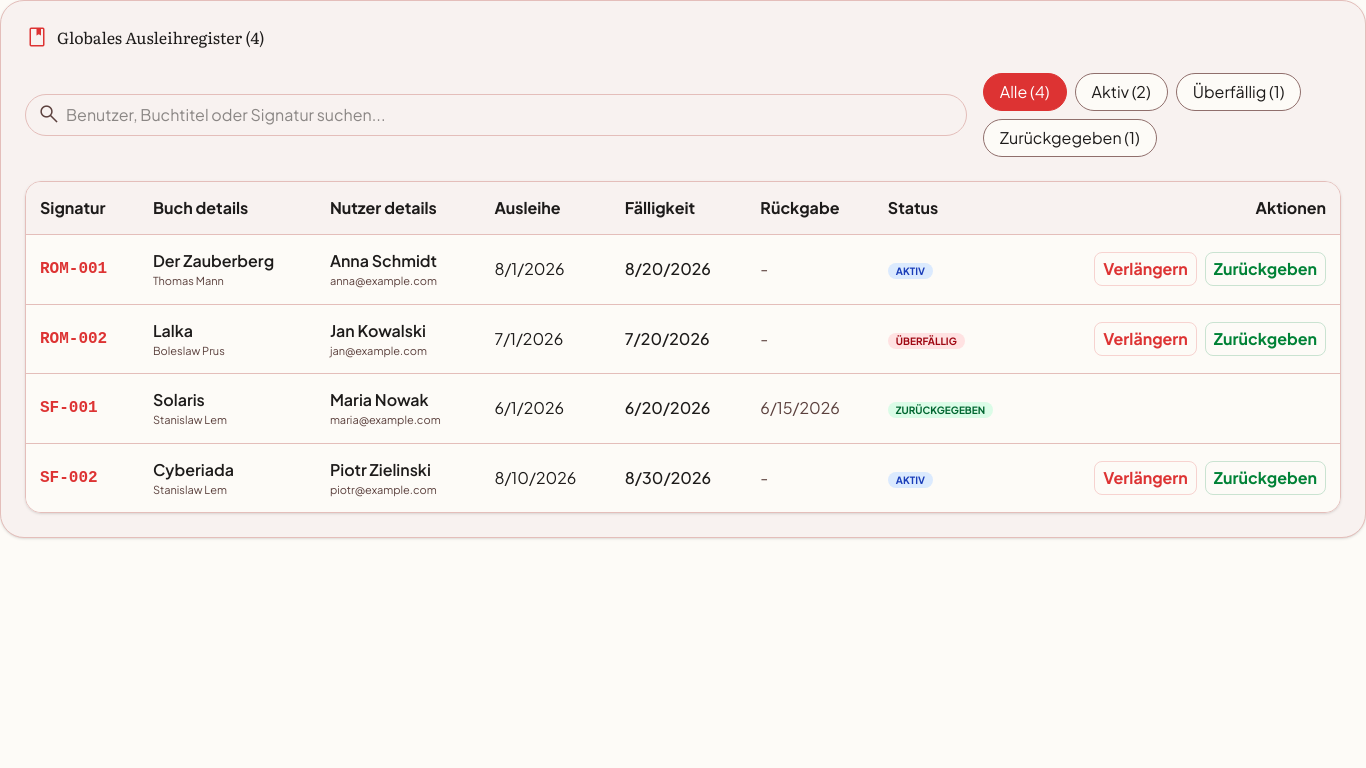
AdminLoans Component (PR #69 verification) › filters loan list by status when clicking status filter buttons
Expected: the text "Der Zauberberg" is shown, top-left (153, 250), bottom-right (274, 271)
Expected: the text "Lalka" is shown, top-left (153, 320), bottom-right (193, 340)
Note: Filter by overdue
Click the button "Überfällig (1)" at (1239, 92), box top-left (1176, 73), bottom-right (1302, 111)
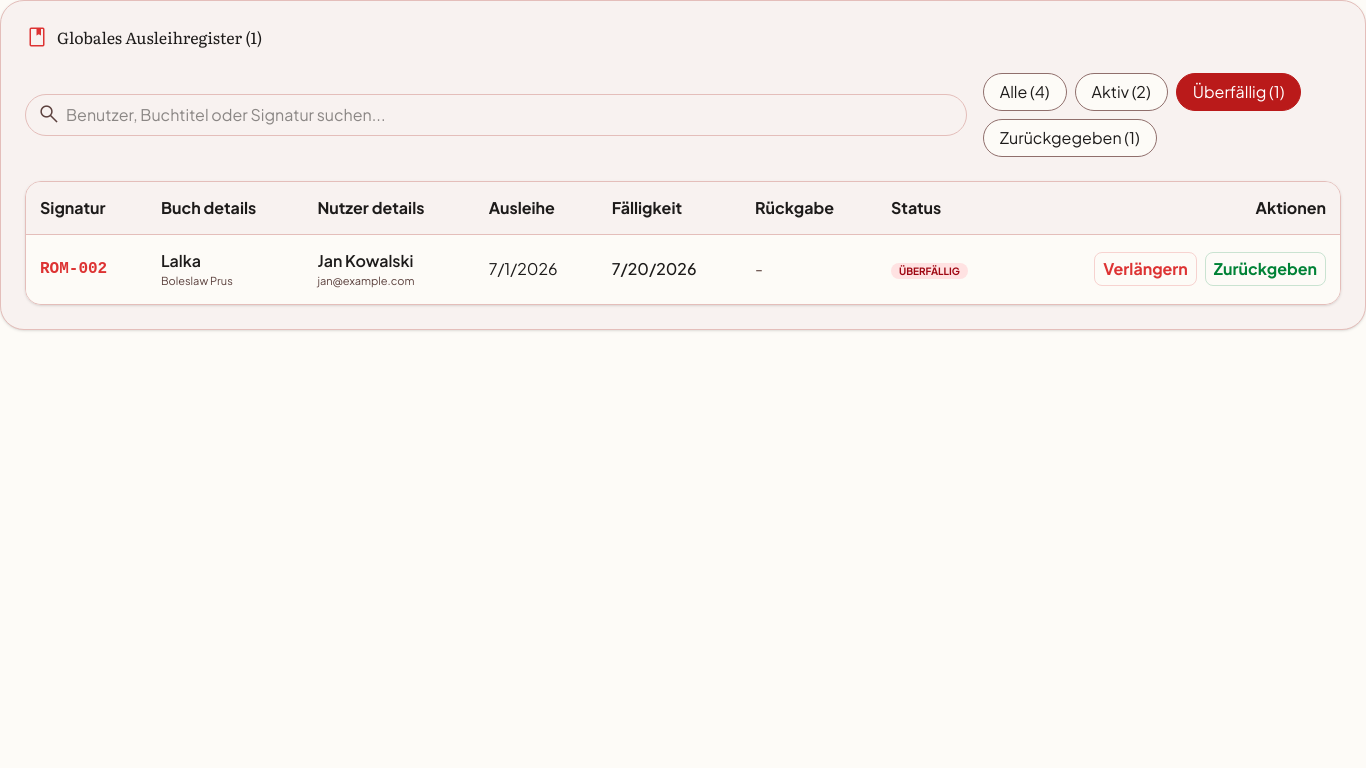
Expected: the text "Lalka" is shown, top-left (161, 250), bottom-right (201, 271)
Result: the text "Der Zauberberg" is gone
Result: the text "Solaris" is gone
Note: Filter by returned
Click the button "Zurückgegeben (1)" at (1070, 138), box top-left (983, 119), bottom-right (1157, 157)
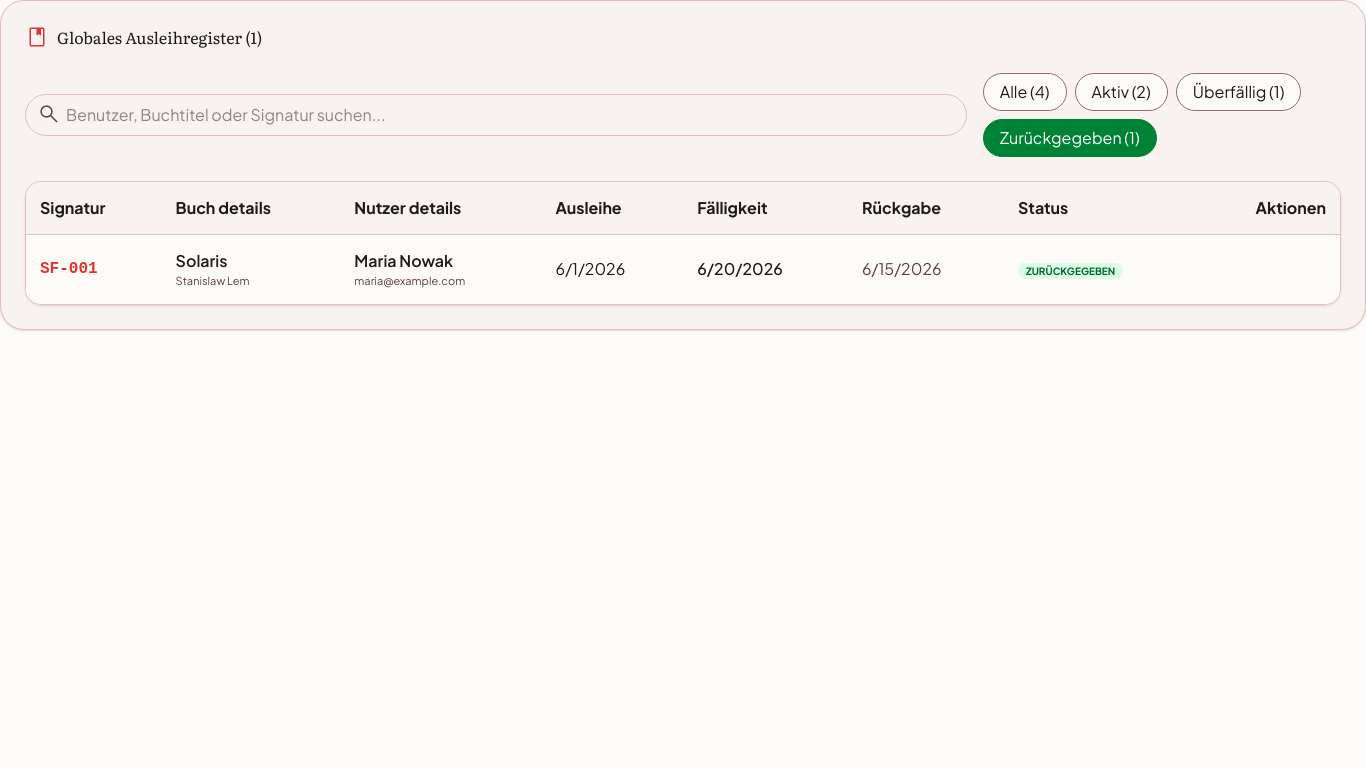
Expected: the text "Der Zauberberg" is not shown
Result: the text "Solaris" is shown at top-left (176, 250), bottom-right (228, 271)
Result: the text "Lalka" is gone
Note: Filter by active
Click the button "Aktiv (2)" at (1121, 92), box top-left (1075, 73), bottom-right (1168, 111)
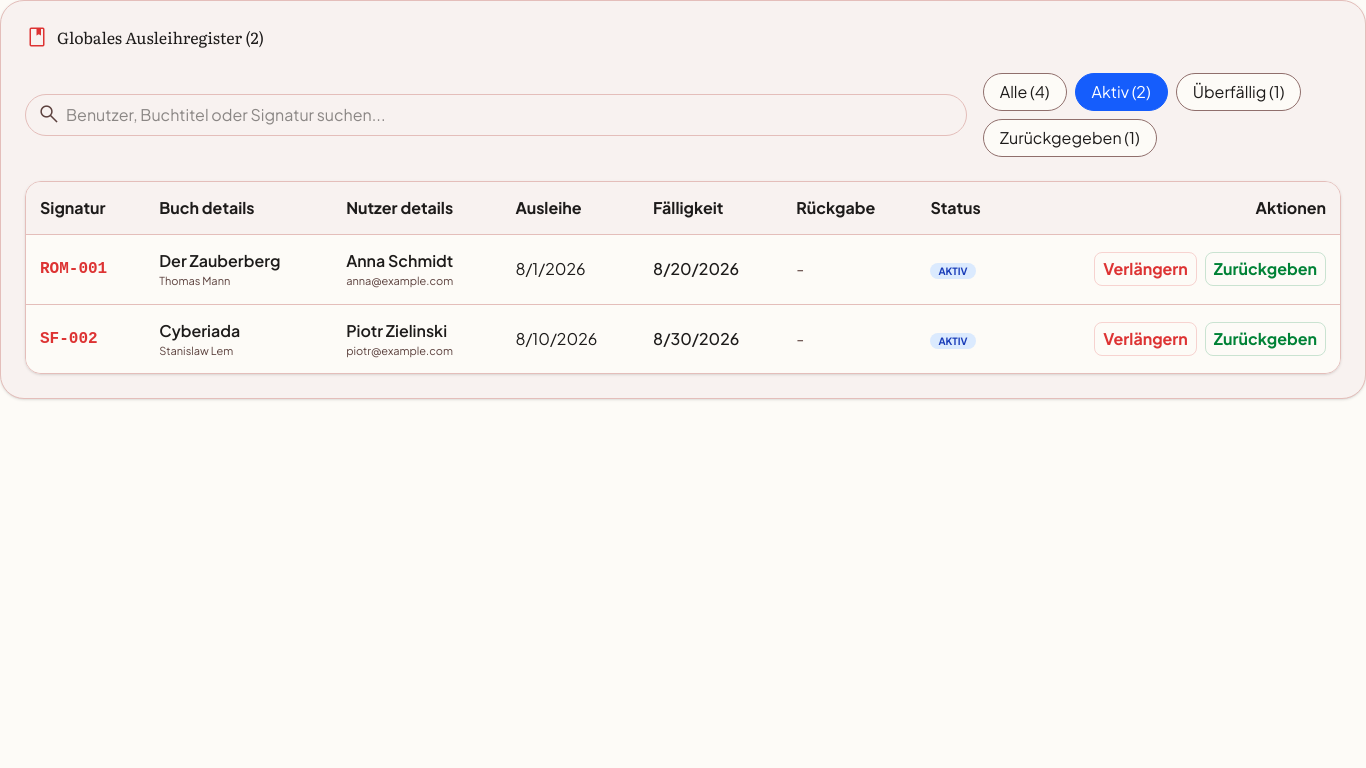
Result: the text "Der Zauberberg" is shown at top-left (159, 250), bottom-right (280, 271)
Result: the text "Cyberiada" is shown at top-left (159, 320), bottom-right (240, 340)
Result: the text "Solaris" is gone
